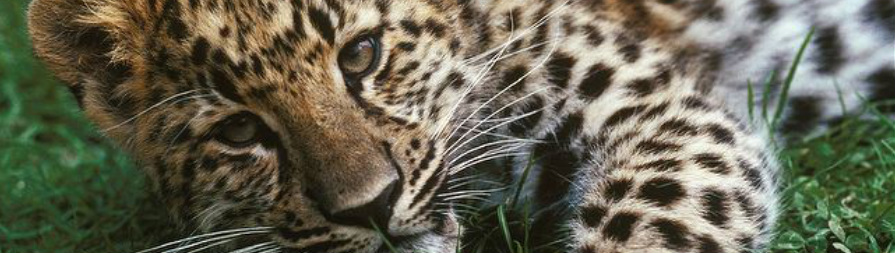amur_leopard: (10, 1, 802, 251)
